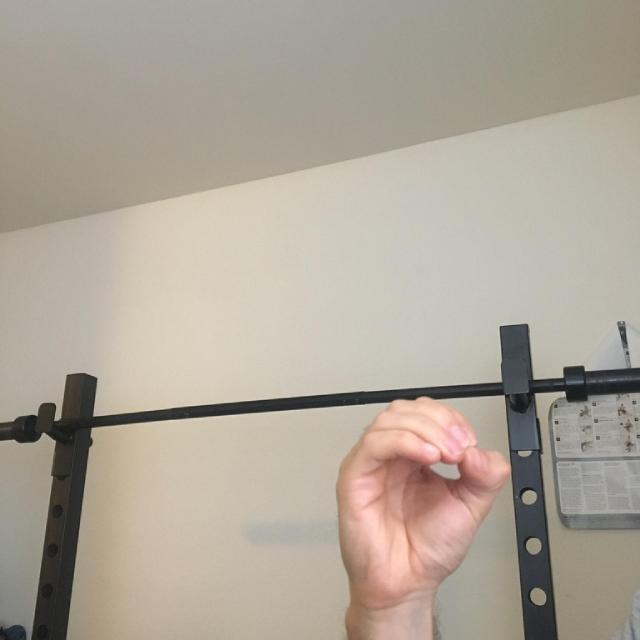O: (330, 345, 533, 640)
